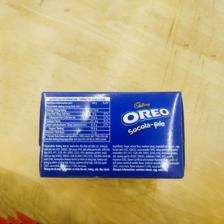Oreo: (38, 91, 185, 179)
